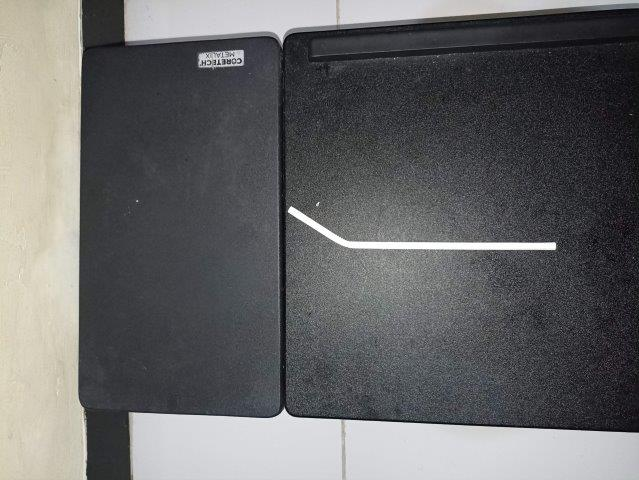sedotan: (288, 205, 556, 250)
